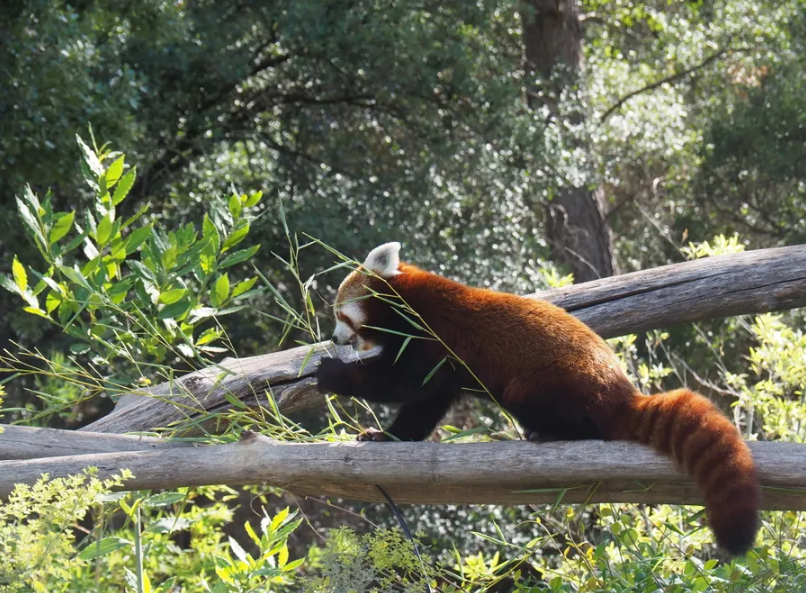red_panda: (315, 236, 767, 546)
